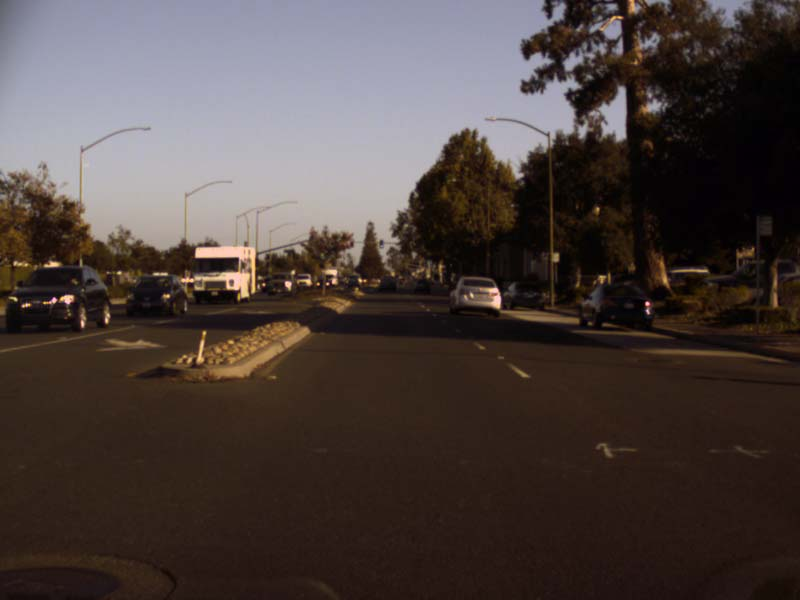Green: (448, 257, 453, 267), (379, 239, 383, 248)
Red: (350, 238, 354, 247)
